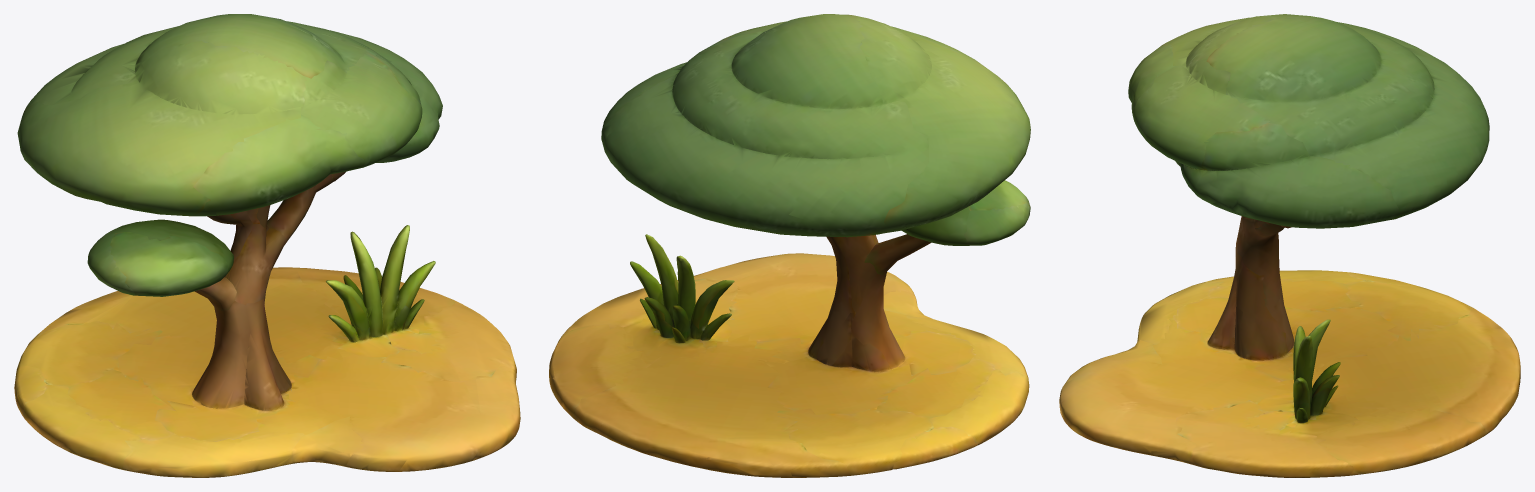
File: acacia_pbr.glb
3 views of the same model, side by side, from view 1: azimuth 30°, elevation 25°; view 2: azimuth 150°, elevation 25°; view 3: azimuth 270°, elevation 25° (orthographic). The views are drawn at different scales.
Visible parts, largest first — view 1: model; view 2: model; view 3: model.
Part boxes in pixels (x1,y1,x2,y2): model: [14, 14, 520, 477]; model: [549, 14, 1030, 477]; model: [1059, 14, 1520, 477].
Bounding box in the file's own units: 1.94 × 1.53 × 1.91.
Materials: 1 (1 with a texture image).
